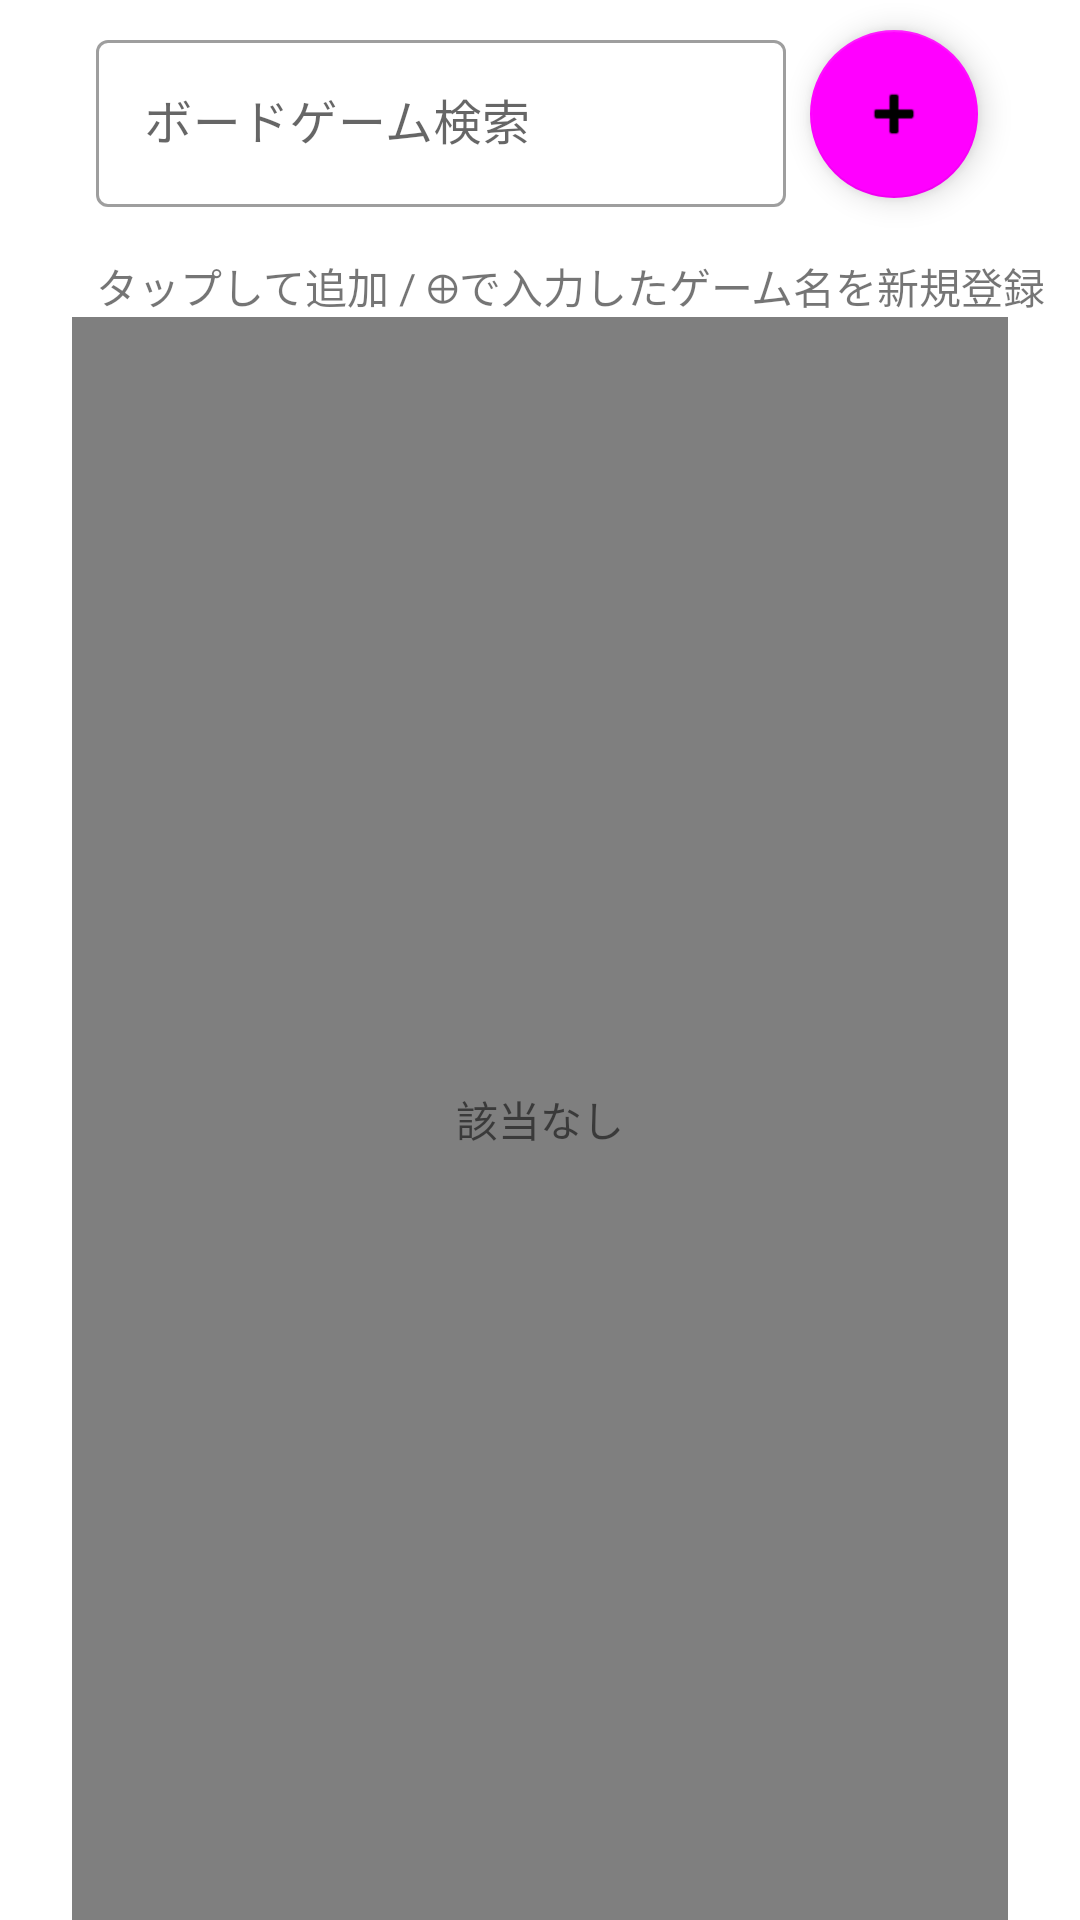

Screen size 1080 × 1920. Icon name, then its box in pixels as Rect(x1, y1, x2, y2):
add: Rect(810, 30, 978, 198)
